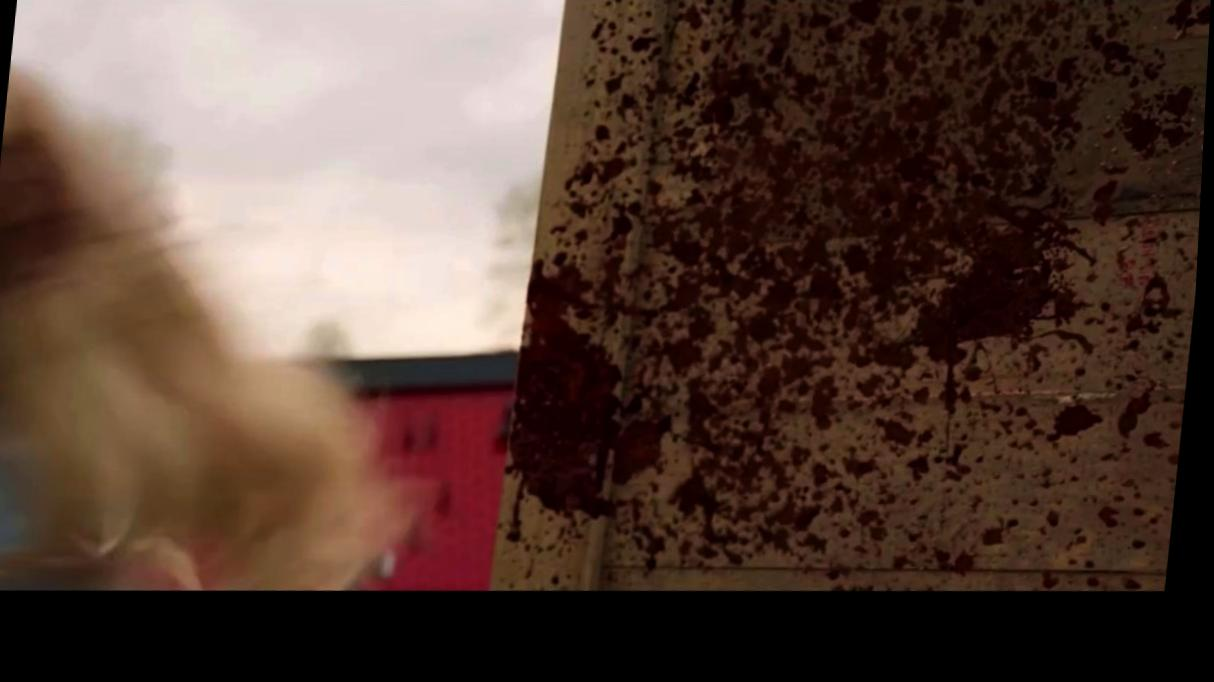Fire: (499, 6, 1211, 603), (0, 132, 83, 294)
